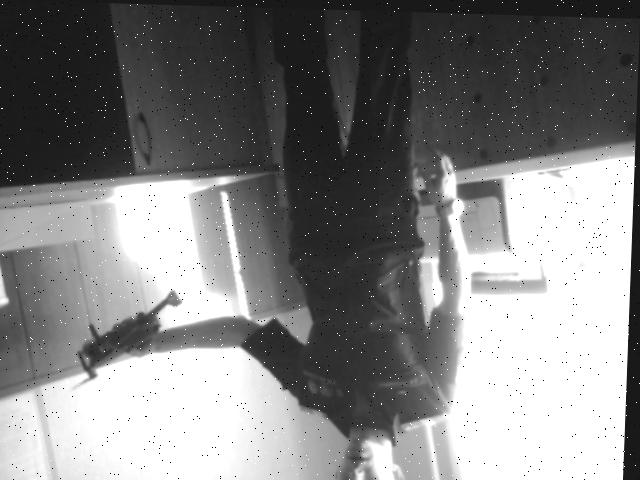drone: (65, 284, 211, 399)
